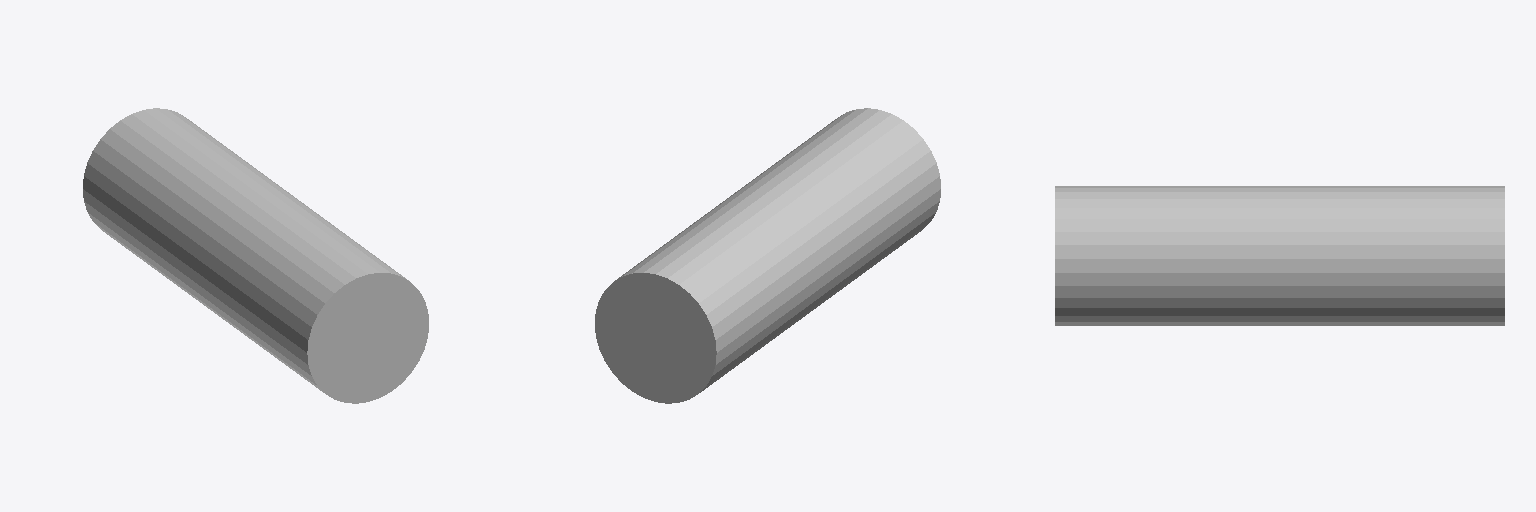
The model's file is ladderpin.obj.
The picture shows the model from 3 angles: view 1: azimuth 30°, elevation 25°; view 2: azimuth 150°, elevation 25°; view 3: azimuth 270°, elevation 25°; orthographic projection.
Parts seen in each view (by area): view 1: Cylinder; view 2: Cylinder; view 3: Cylinder.
Boxes of the visible parts, <box> form: Cylinder: <box>83,108,428,403</box>; Cylinder: <box>595,108,940,403</box>; Cylinder: <box>1055,186,1504,325</box>.
Bounding box in the file's own units: 0.6293 × 0.6293 × 2.01.